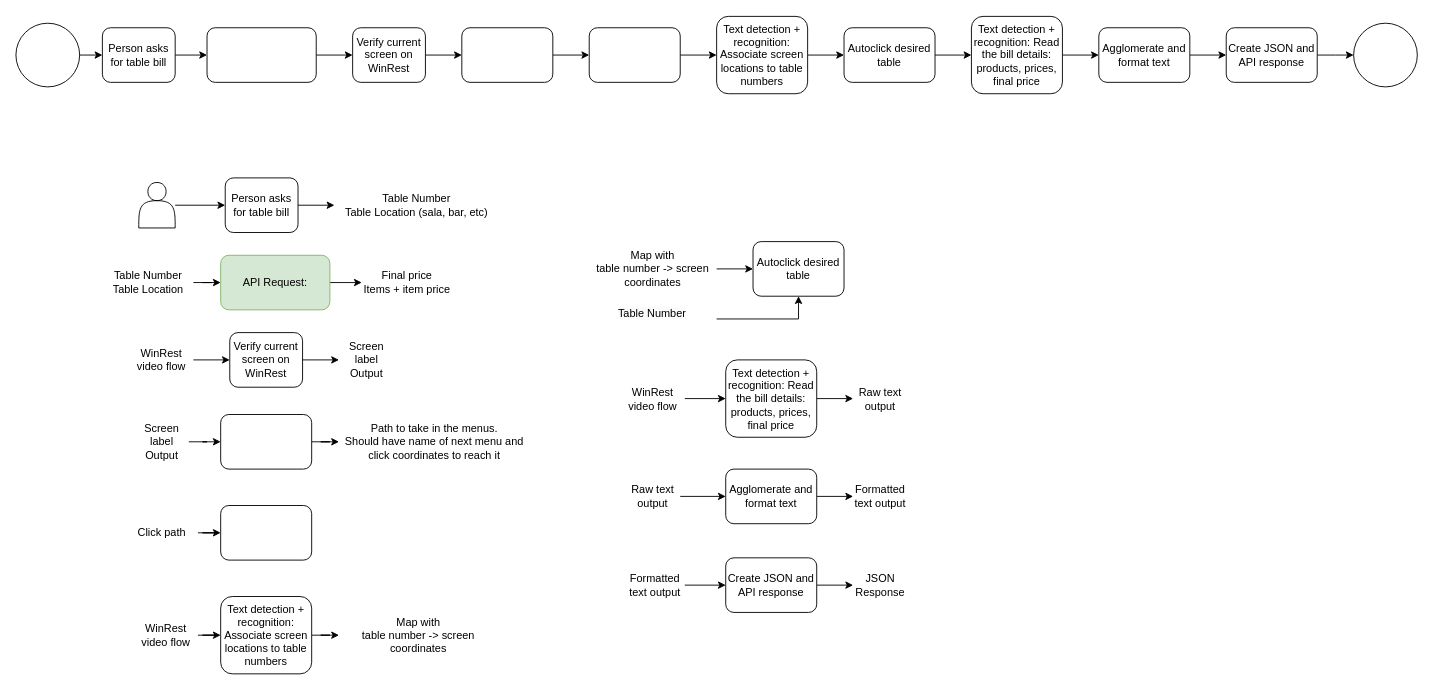
This 1433x690 diagram has some shape labels left out. The shapes that lost their labels are listed below. From the top down, each one's centre as x and y in pixels, then its label:
[47,54]: Start
[261,54]: API Request: Input=table number and table location
[507,54]: Calculate click path to reach the table view (state machine)
[634,54]: Perform the necessary click sequence
[1385,54]: End
[266,441]: Calculate click path to reach the table view
[266,532]: Perform the necessary click sequence (state machine)
